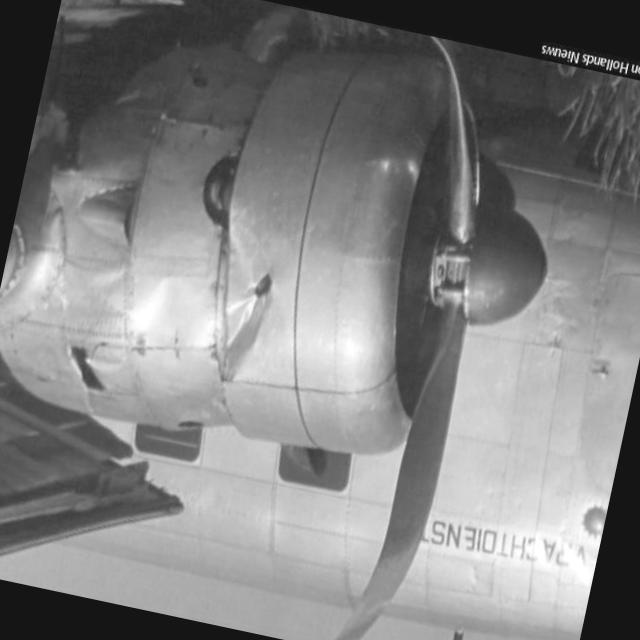dent: (206, 263, 280, 370)
